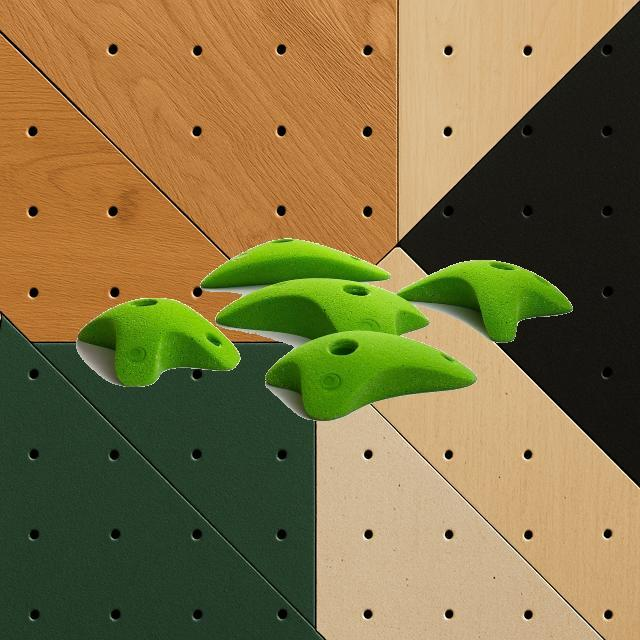Pinch: (264, 331, 476, 422), (395, 258, 573, 342), (74, 296, 240, 386), (216, 278, 428, 339), (200, 237, 390, 285)
